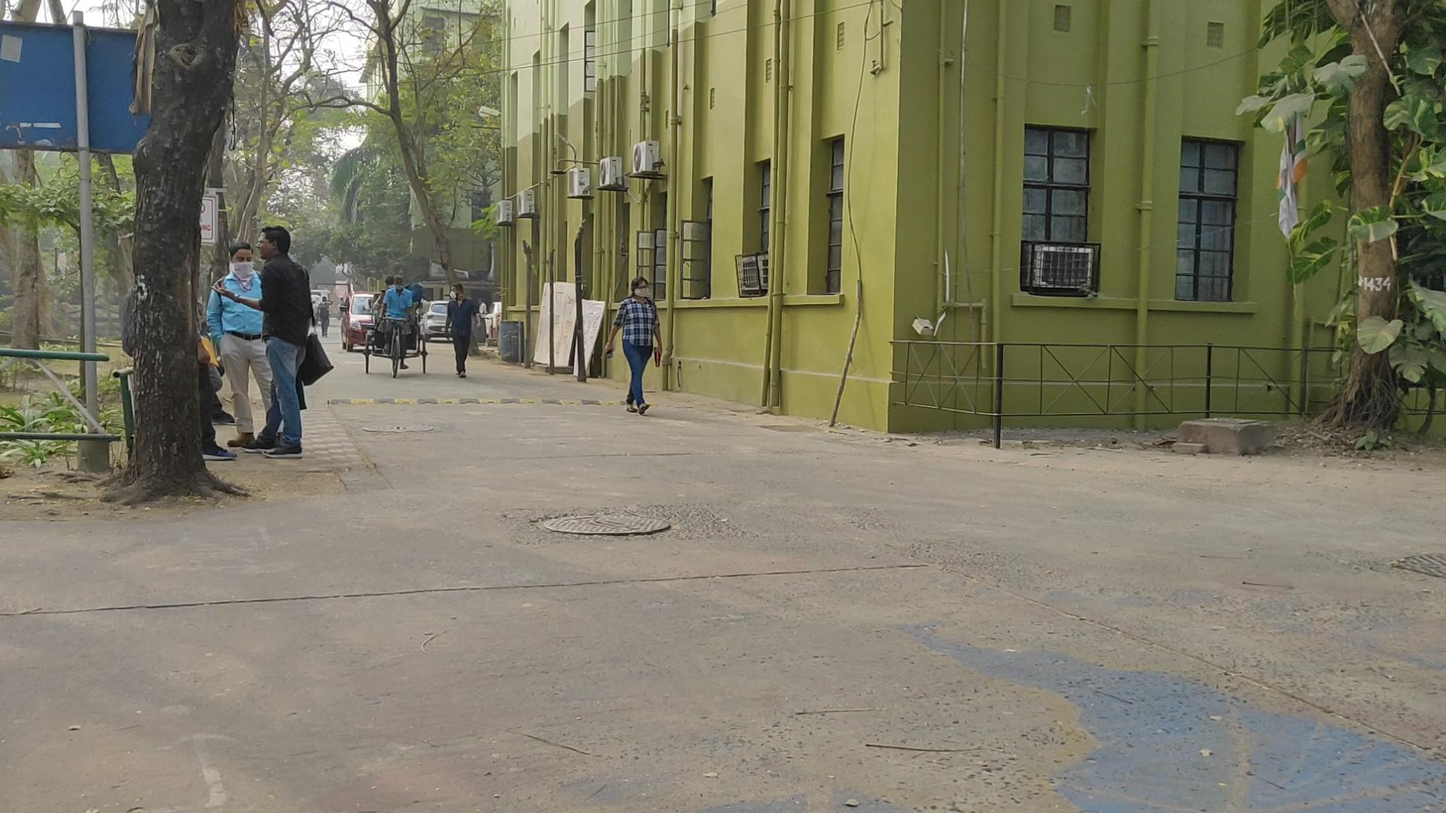car: (340, 288, 377, 358), (418, 298, 454, 344)
